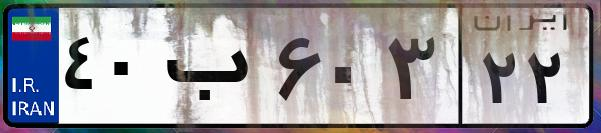0: (330, 28, 385, 110), (110, 28, 158, 98)
2: (475, 38, 525, 113), (525, 38, 570, 115)
3: (385, 28, 445, 110)
4: (57, 26, 110, 100)
6: (270, 28, 330, 110)
ب: (158, 20, 270, 120)
